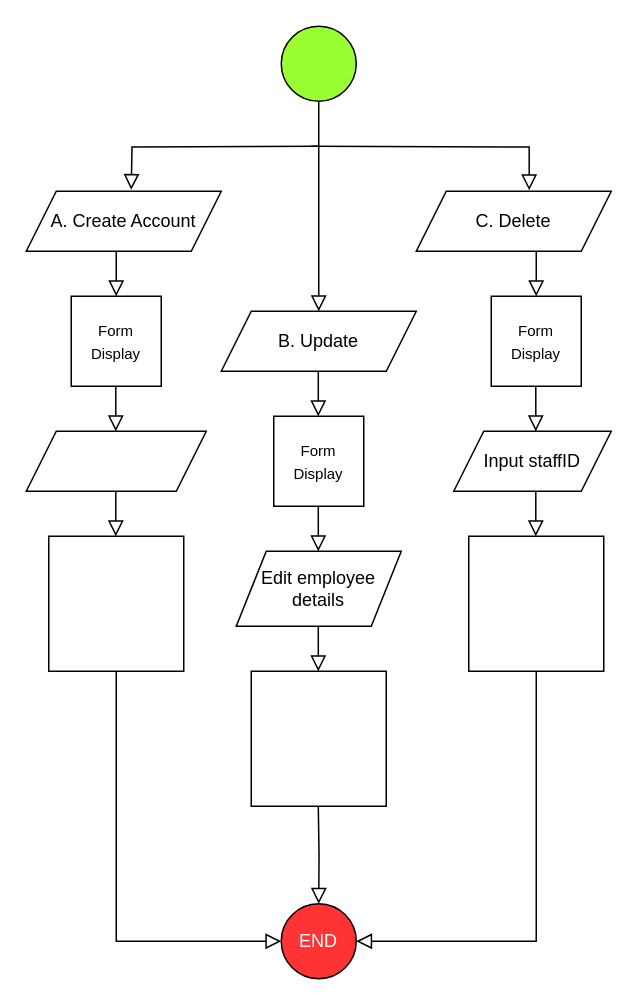
The diagram is 638 pixels wide and 1005 high, and some of its shapes have lost their labels. Here are the shapes that lost their labels. From the top down, the centre of each, then its label:
At (318,63): "START".
At (115,460): "Input employee details".
At (115,603): "Save employee details".
At (535,603): "Delete employee Account".
At (318,738): "Update employee Account".
